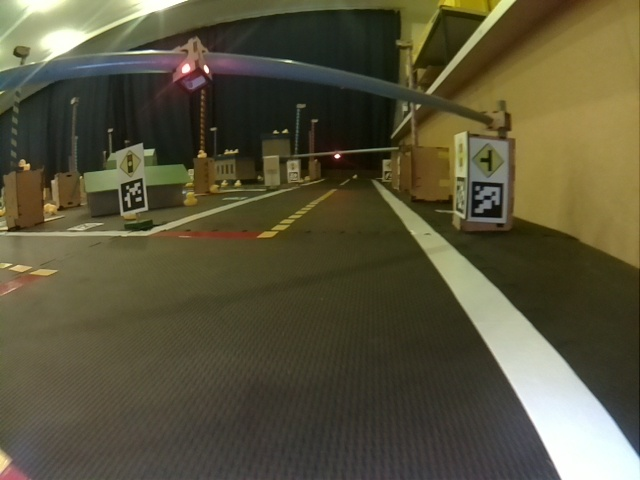Intersection sign: (472, 142, 504, 173)
QR code: (470, 181, 504, 217), (120, 180, 146, 211), (454, 175, 465, 217)
Signal sign: (118, 150, 142, 176), (455, 134, 465, 174)
Traffic light: (172, 35, 212, 93)
